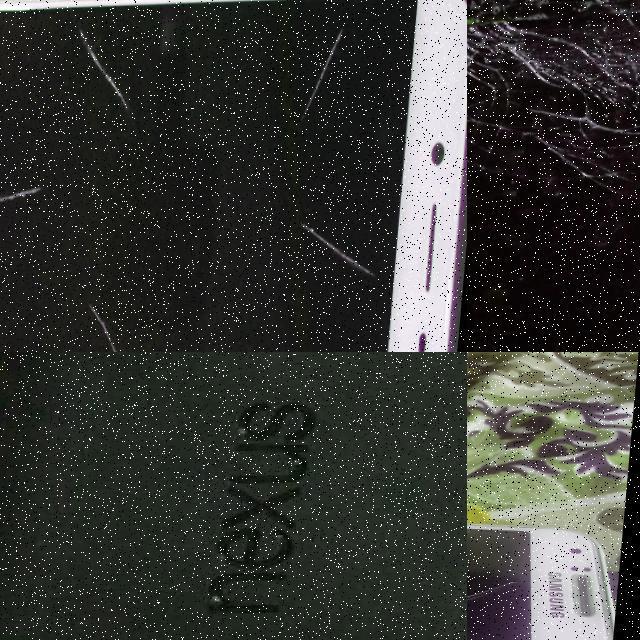scratch: (301, 198, 389, 284), (73, 25, 137, 115), (78, 301, 164, 352), (302, 35, 345, 135), (0, 190, 45, 232)
screen crack: (467, 0, 640, 198), (467, 505, 551, 640)
